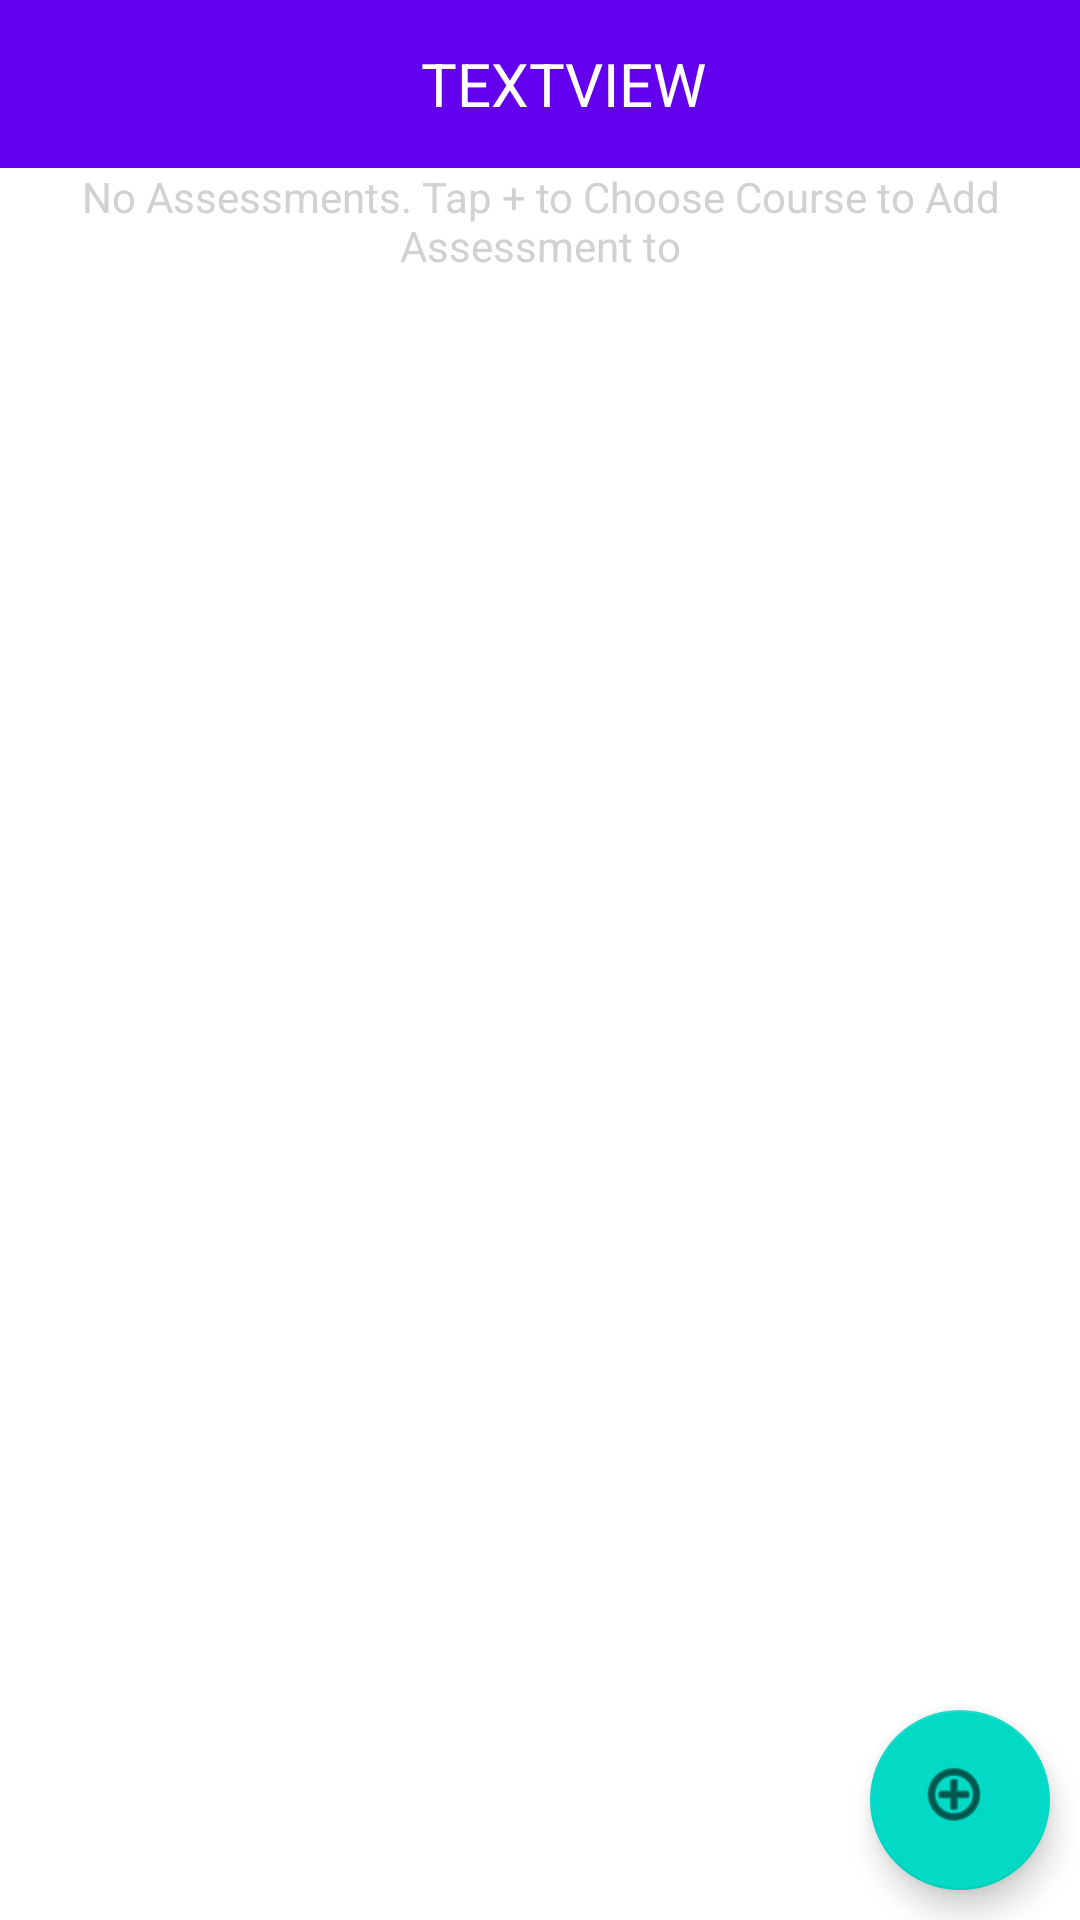

Screen size 1080×1920. Icon name, then its center in pixels as (x=x, y=y):
add: (x=960, y=1800)
